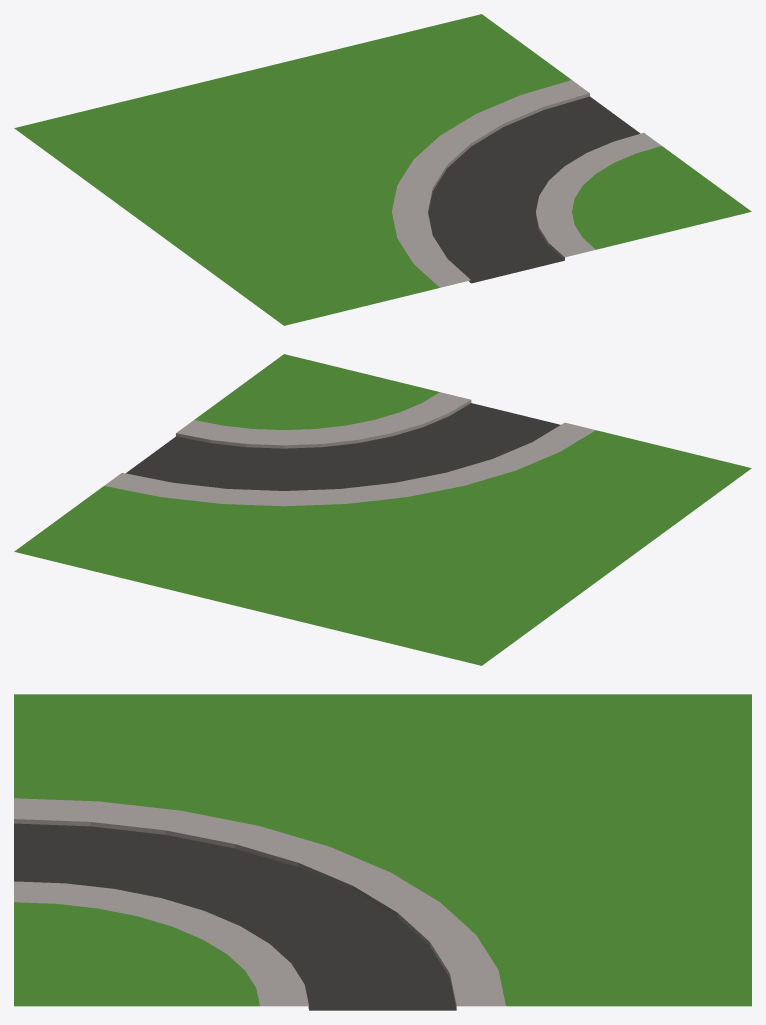
The model's file is tiles-nb-tile-road-curve-nb.glb.
3 renders of one model, top to bottom at view 1: azimuth 30°, elevation 25°; view 2: azimuth 150°, elevation 25°; view 3: azimuth 270°, elevation 25°, orthographic. The views are drawn at different scales.
Visible parts, largest first — view 1: tile-road-curve-nb; view 2: tile-road-curve-nb; view 3: tile-road-curve-nb.
Part boxes in pixels (<box>): tile-road-curve-nb: <box>14,14,751,325</box>; tile-road-curve-nb: <box>14,354,751,665</box>; tile-road-curve-nb: <box>14,694,751,1010</box>.
Bounding box in the file's own units: 30 × 0.2 × 30.
